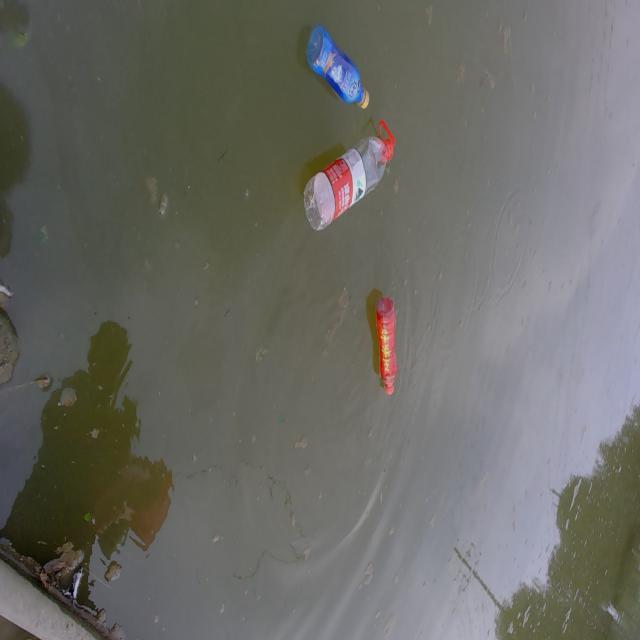bottle: (295, 116, 407, 243), (290, 20, 381, 116), (364, 291, 404, 405)
